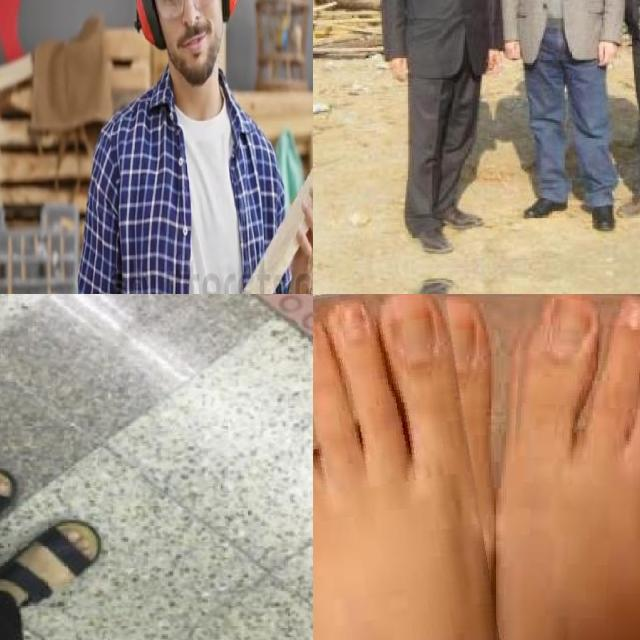Barefoots: (313, 294, 500, 640), (484, 294, 640, 640)
Ear-protection: (128, 0, 165, 55), (217, 0, 249, 19)
hand_noglove: (381, 50, 415, 82), (592, 36, 623, 71), (483, 44, 506, 71), (502, 37, 522, 64)
person: (75, 0, 313, 294), (381, 0, 502, 250), (493, 0, 626, 227)
shoes: (521, 185, 576, 225), (410, 213, 456, 259), (432, 197, 482, 231), (585, 189, 623, 230), (611, 185, 640, 218)
